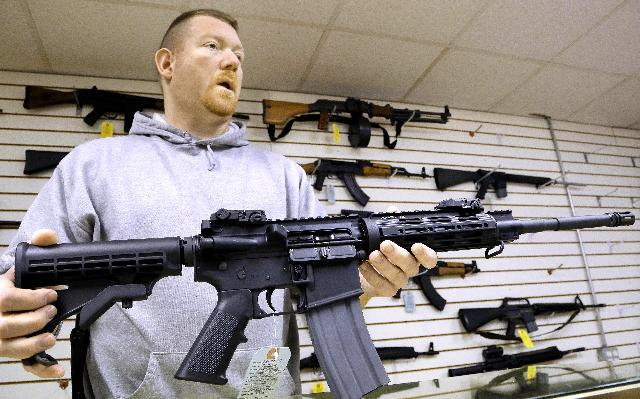rifle: (0, 190, 640, 399), (251, 78, 455, 146), (443, 343, 614, 399), (18, 66, 158, 130), (433, 149, 582, 207), (292, 152, 434, 204), (456, 295, 608, 339)
